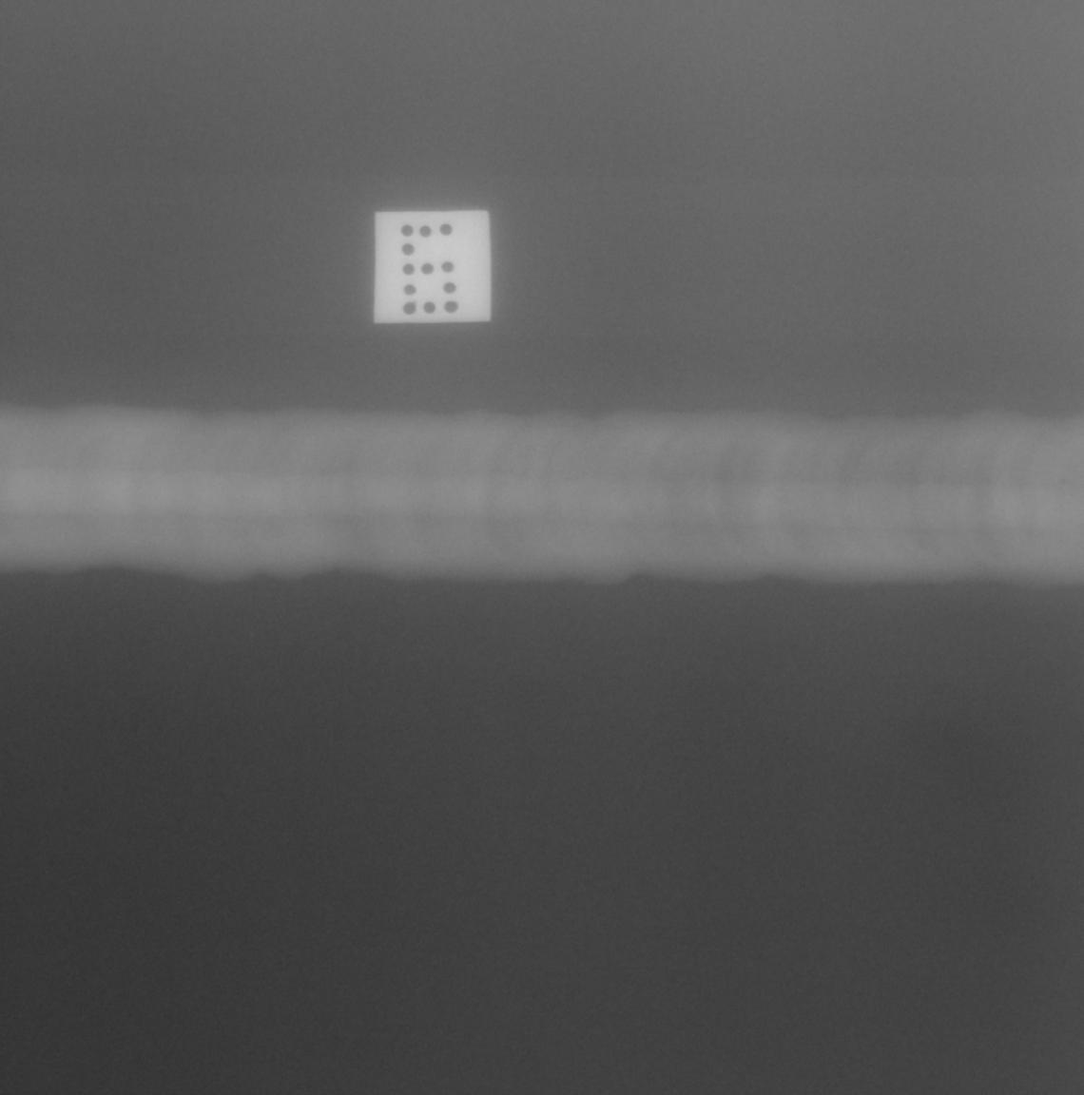Pore/Porosity: (1061, 479, 1066, 483)
